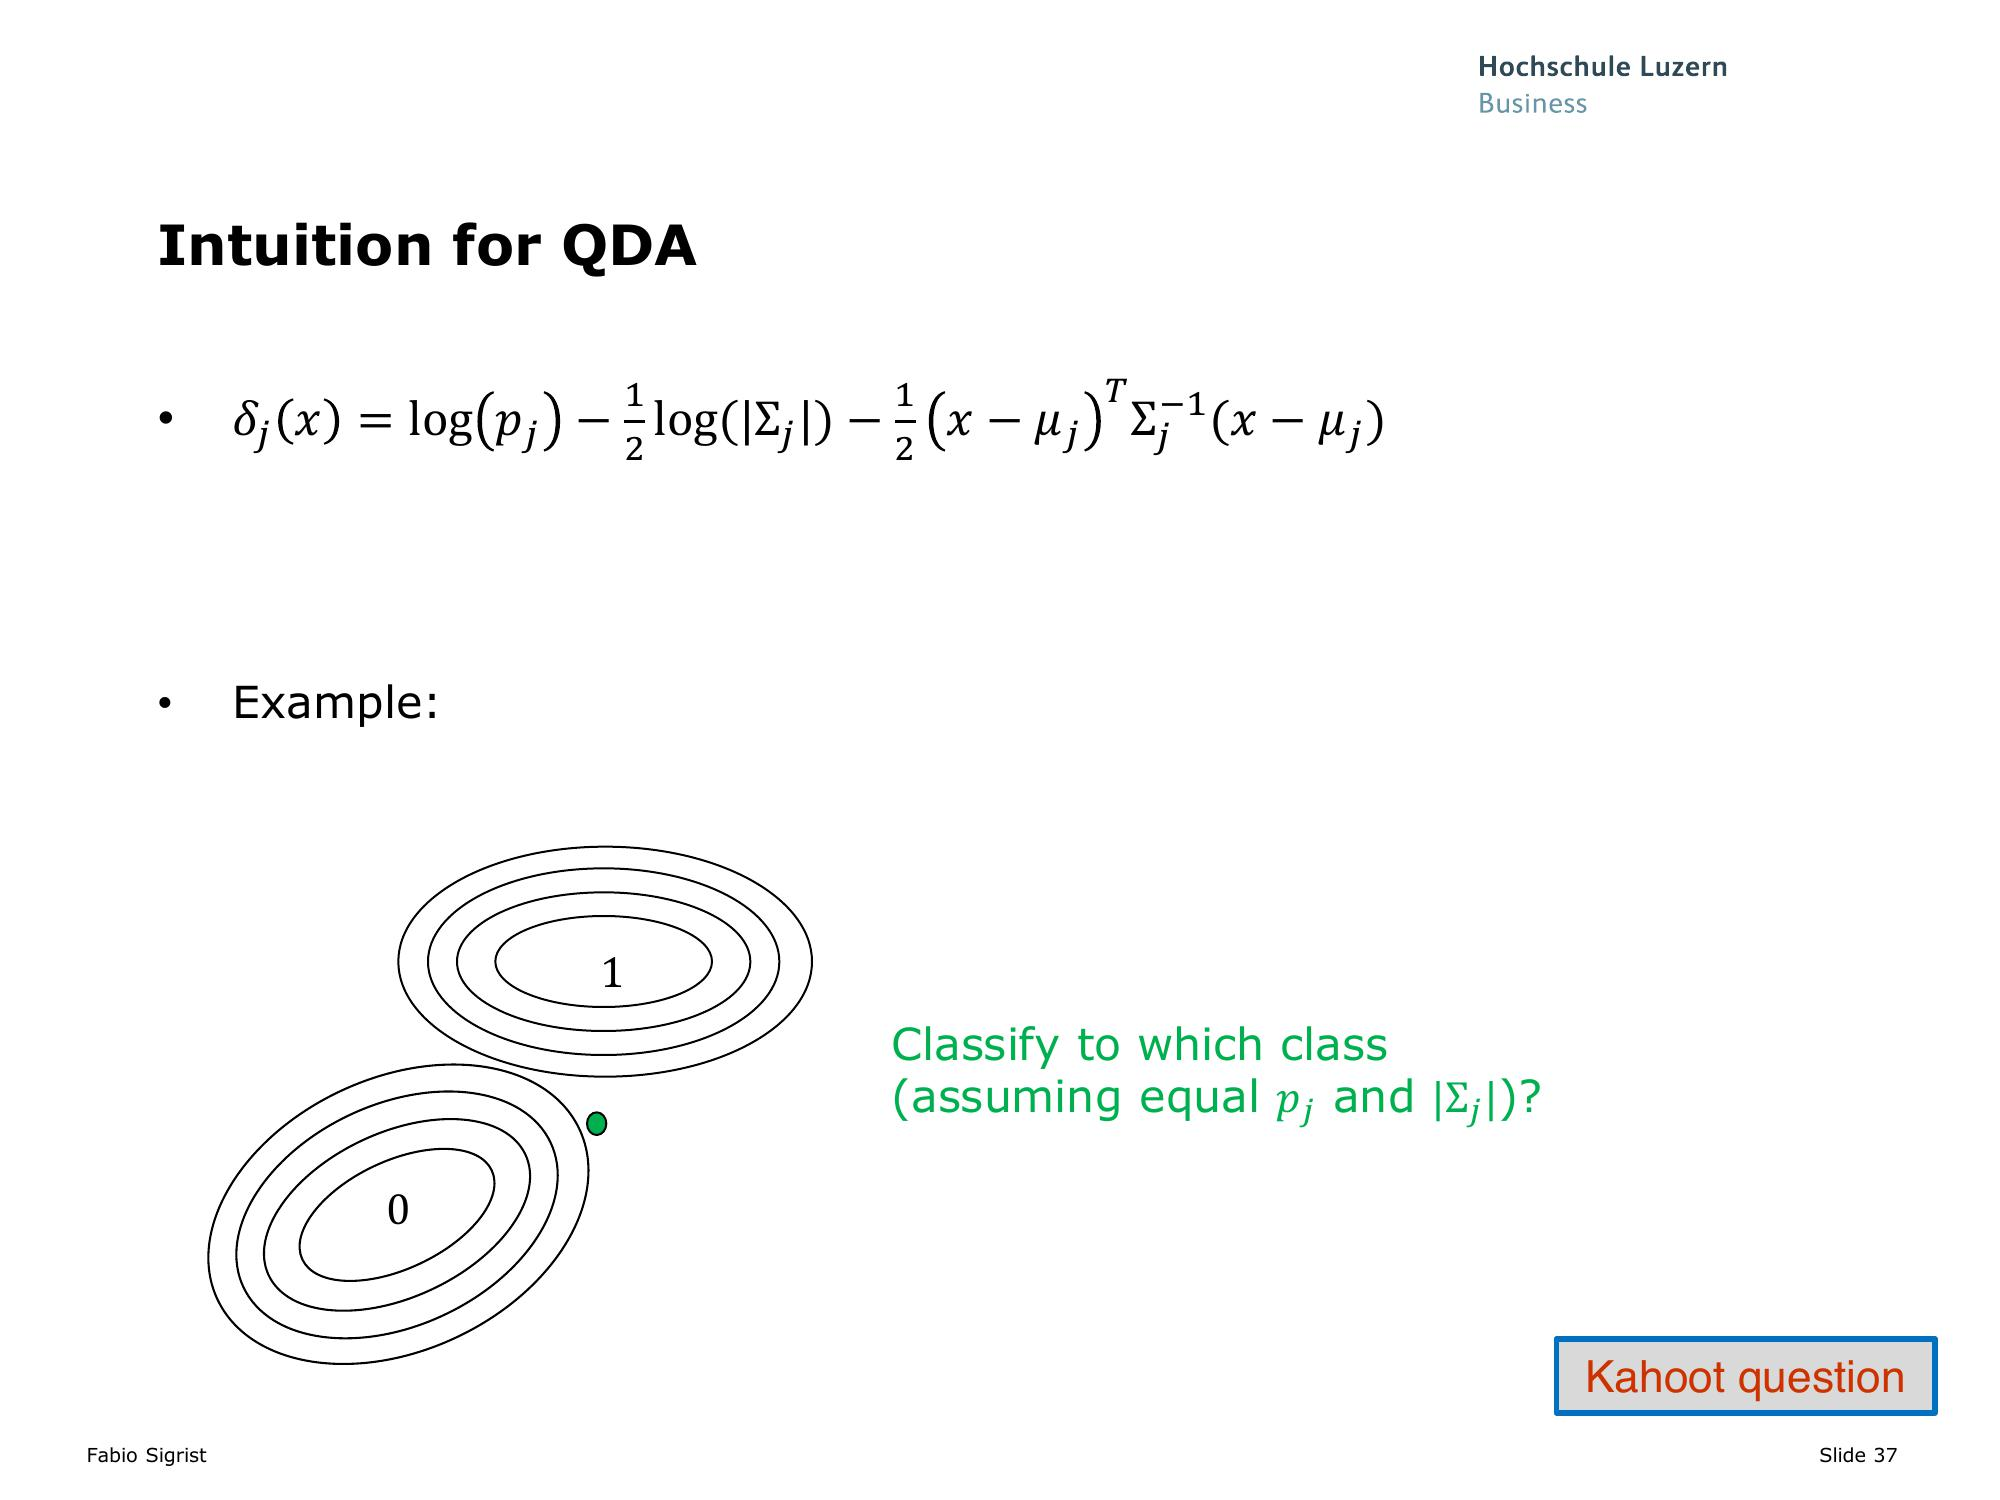Title: (132, 206, 707, 277)
